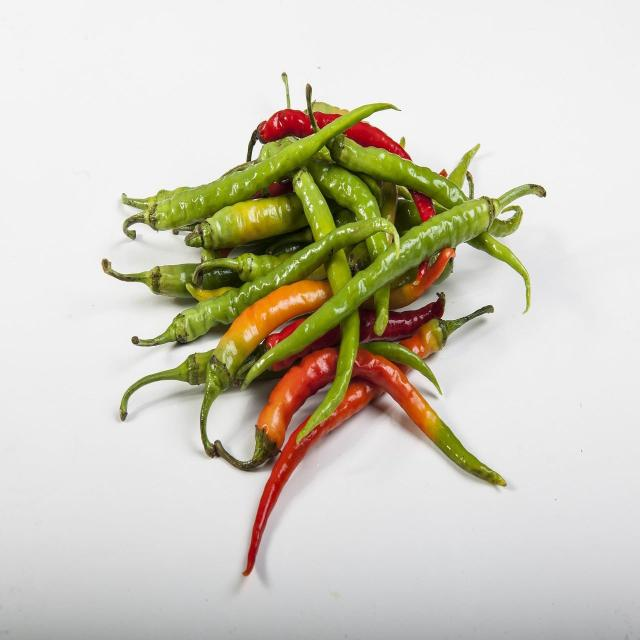Chilli Pepper: (98, 62, 546, 585), (115, 330, 529, 590), (252, 140, 549, 383), (225, 67, 474, 273), (114, 97, 409, 230), (178, 250, 334, 448), (104, 244, 336, 308)
